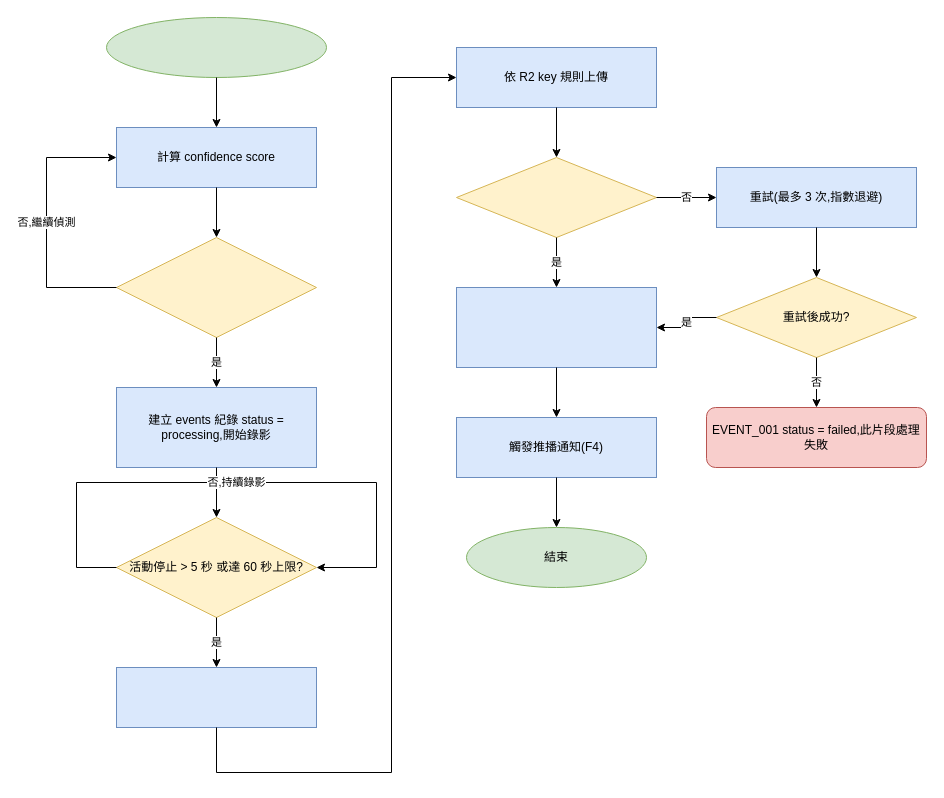
Some shapes in this 944 by 798 pixel diagram are drawn without their labels. Each missing label, with the centre of its shape:
"confidence > 門檻(0.6)?" belongs at (216,287).
"status = ready confidence_score 取最高值" belongs at (556,327).
"上傳成功?" belongs at (556,197).
"結束錄影,產生影片檔與縮圖" belongs at (216,697).
"開始(持續分析影格)" belongs at (216,47).
